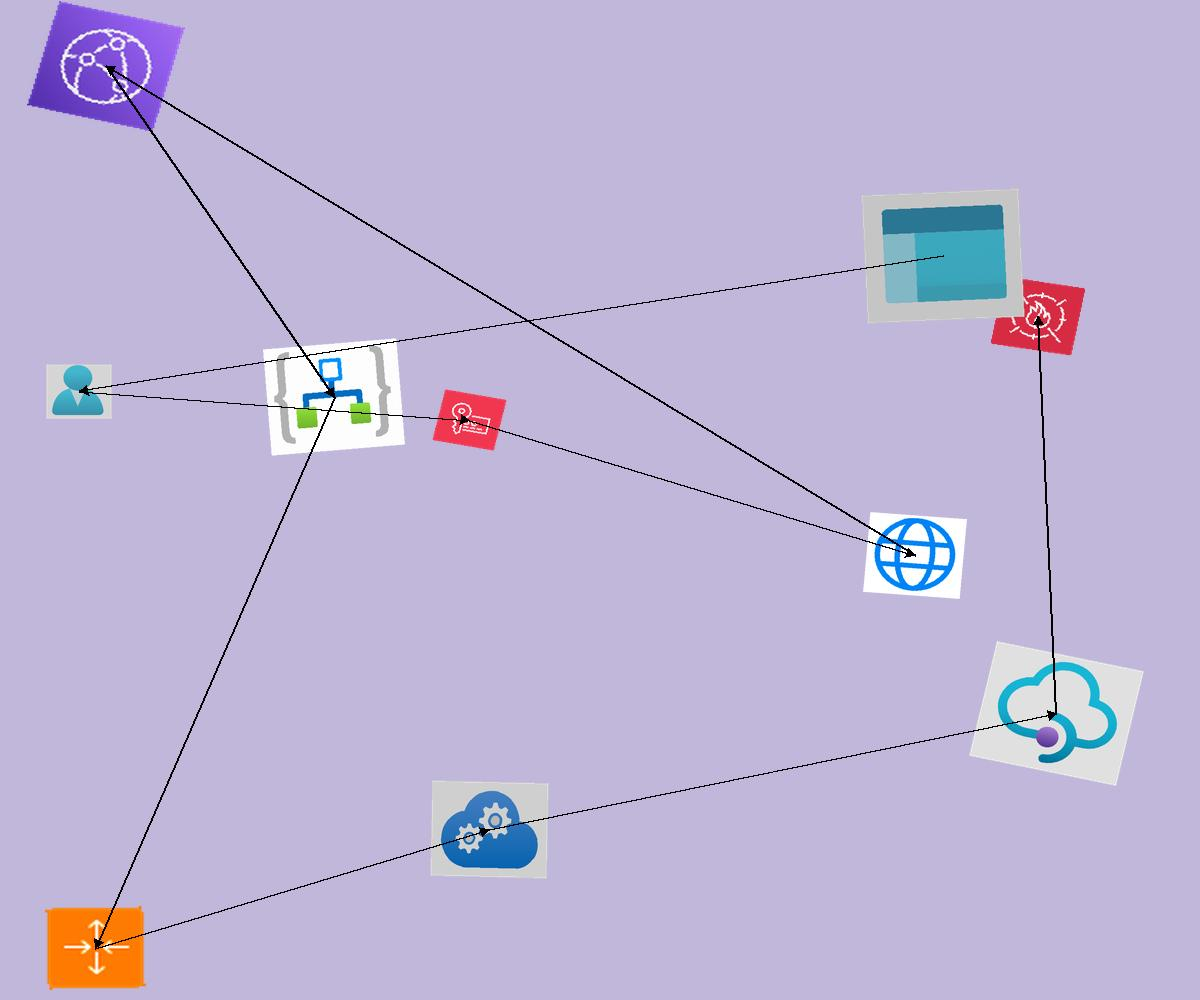AWS-CloudFront: (27, 1, 185, 132)
AWS-Key-Management-Service: (432, 389, 507, 451)
AWS-Scaling-group: (45, 906, 146, 990)
AWS-WAF: (990, 276, 1086, 356)
Azure_api_gateway: (969, 641, 1144, 786)
Azure_cloud_services: (430, 780, 549, 879)
Azure_http: (863, 512, 967, 599)
Azure_integration-204-Logic-Apps: (263, 338, 405, 456)
Azure_management-portal: (861, 188, 1025, 324)
Azure_users: (46, 364, 112, 419)
